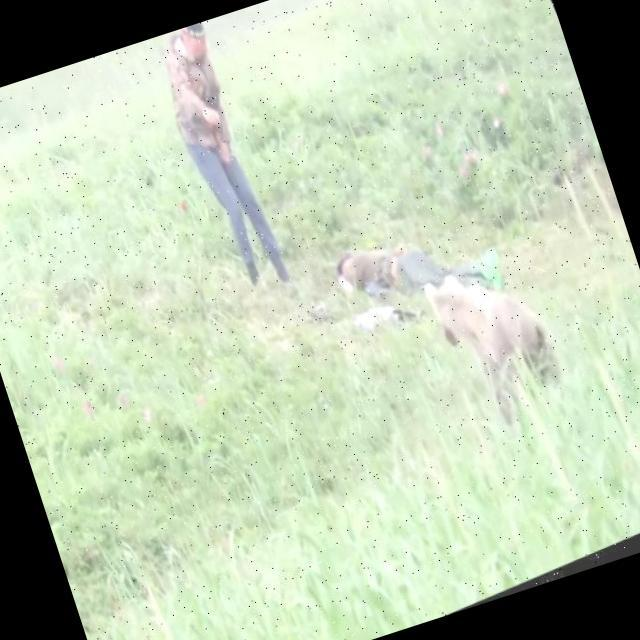person: (139, 14, 312, 310), (326, 196, 512, 343)
